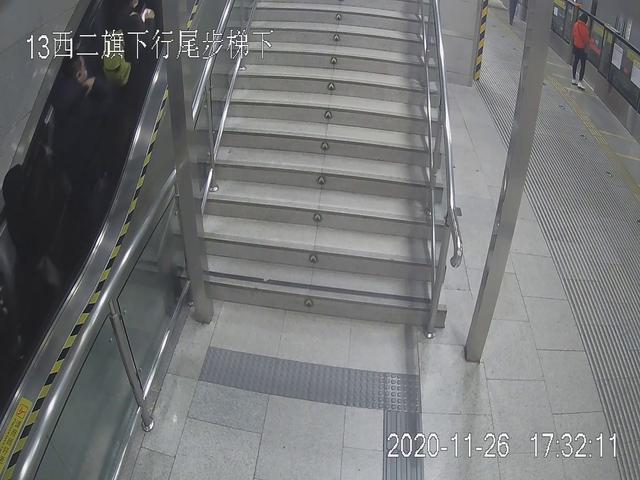person: (42, 52, 122, 251), (564, 9, 598, 92)
